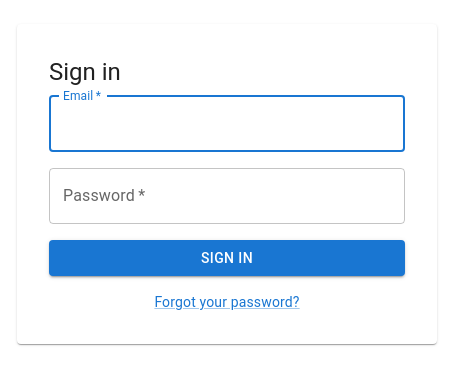
Test: LoginPage › shows the server validation error
The image size is (455, 375).
Type "jane@example.com" into the field labelled "Email *".
click(227, 124); type("jane@example.com")  # box x1=49 y1=96 x2=405 y2=152
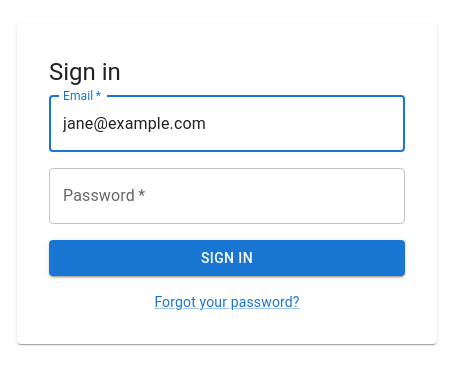
Type "bad" into the password field labelled "Password *".
click(227, 196); type("bad")  # box x1=49 y1=168 x2=405 y2=224
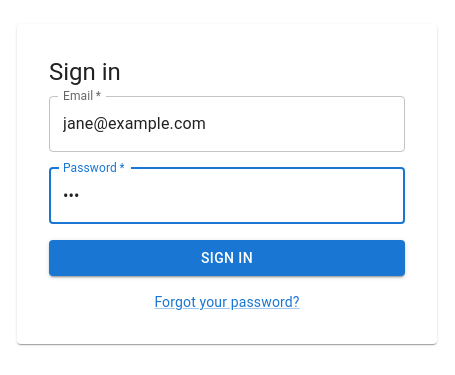
Click the button "Sign in".
click(227, 258)  # box x1=49 y1=240 x2=405 y2=276
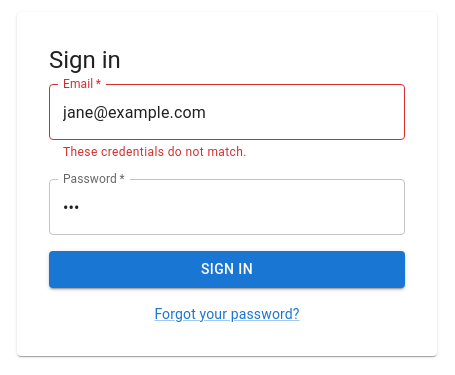
Expected: the text "These credentials do not match." is shown, x1=63 y1=146 x2=247 y2=160
